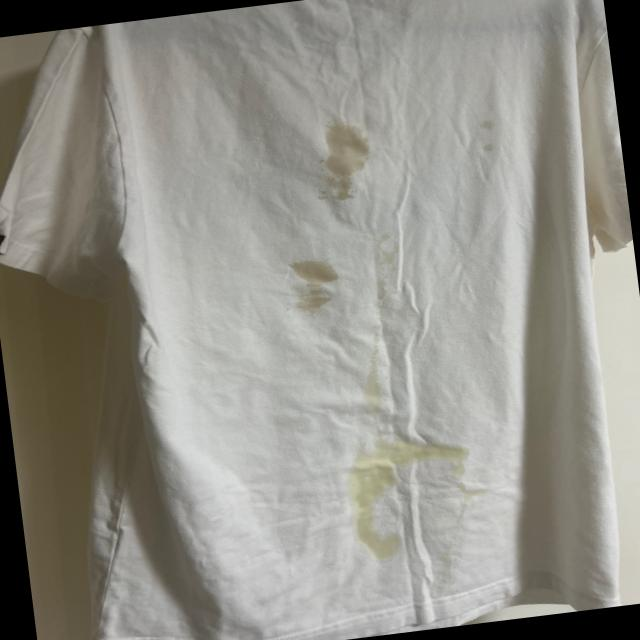stain: (338, 473, 408, 569), (346, 431, 471, 484), (303, 112, 368, 210), (282, 247, 340, 294), (358, 351, 393, 408), (278, 281, 332, 315), (468, 118, 508, 162)
